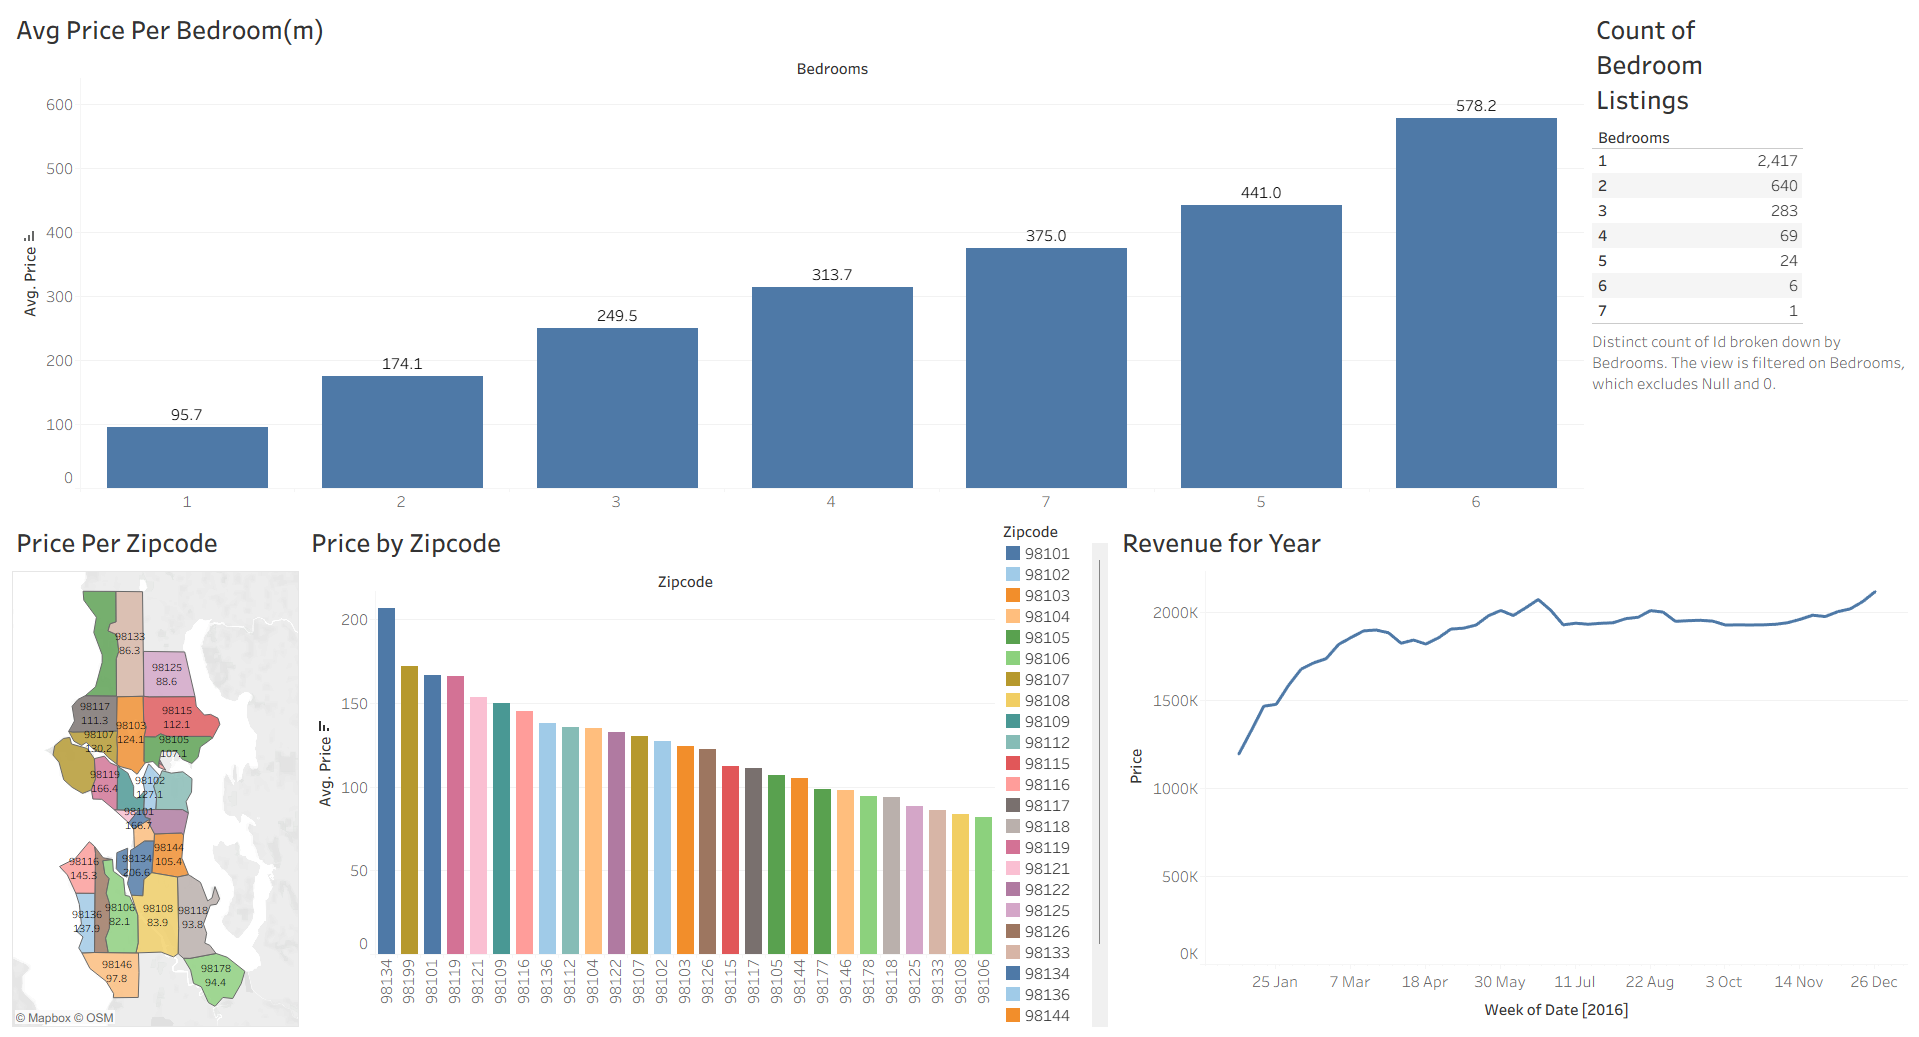

What the dashboard file says about the page in this screenshot:
{"tool":"tableau","page":{"name":"Basic Dashboard","canvas":[1000,1000],"units":"permille","ordinal":0},"visuals":[{"type":"worksheet","title":"Avg Price by Bedrooms","mark":"Automatic","rows":["price"],"cols":["bedrooms"],"box":[4.8,9.4,817.7,490.6]},{"type":"worksheet","title":"Bedroom listings","mark":"Automatic","rows":["bedrooms"],"box":[822.6,9.4,172.6,490.6]},{"type":"worksheet","title":"Avg price by zipcode","mark":"Multipolygon","box":[4.8,500,176.8,490.6]},{"type":"worksheet","title":"Price by Zipcode","mark":"Automatic","rows":["price"],"cols":["zipcode"],"box":[181.7,500,307.2,490.6]},{"type":"legend","title":"Price by Zipcode","param":"[federated.1u921f11xwxlys105fqyw017b774].[none:zipcode:ok]","box":[488.8,500,59.7,490.6]},{"type":"worksheet","title":"Revenue for Year","mark":"Automatic","rows":["price (Calendar)"],"cols":["date"],"box":[548.6,500,446.6,490.6]}]}

Visuals, with their boxes on the dashboard's canvas, which has no fixed pixel size, in thousandths of its width and height (x1, y1, x2, y2). These are canvas units, not pixel positions in the 1919x1037 screenshot, which may show the page scaled, cropped or inside an application window:
"Avg Price by Bedrooms" worksheet: [5, 9, 822, 500]
"Bedroom listings" worksheet: [823, 9, 995, 500]
"Avg price by zipcode" worksheet (Multipolygon marks): [5, 500, 182, 991]
"Price by Zipcode" worksheet: [182, 500, 489, 991]
"Price by Zipcode" legend: [489, 500, 548, 991]
"Revenue for Year" worksheet: [549, 500, 995, 991]
